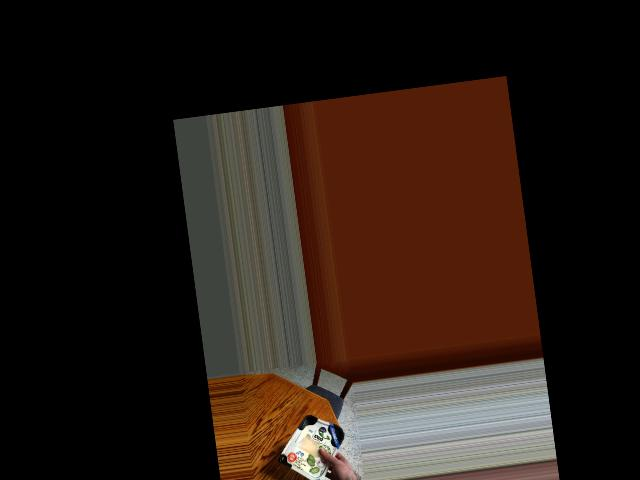cheese: (278, 410, 350, 477)
